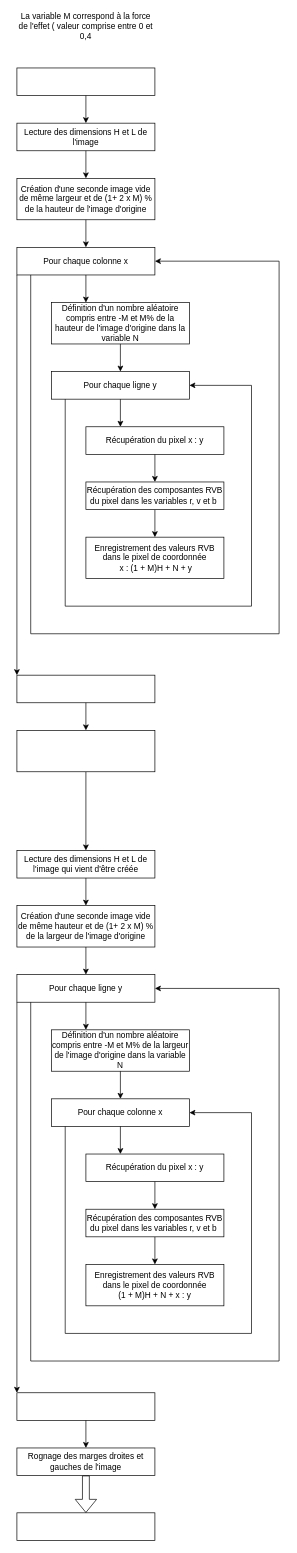
Some shapes in this 297 by 1553 pixel diagram are drawn without their labels. Here are the shapes that lost their labels. From the top down, the centre of each, then its label:
pixel 85 81: Ouverture de l'image choisie
pixel 85 688: Enregistrement de l'image 2
pixel 85 751: Rognage des marges hautes et basses de l'image
pixel 85 1406: Enregistrement de l'image 3
pixel 85 1526: Enregistrement de l'image finale avec les deux effets appliqués
